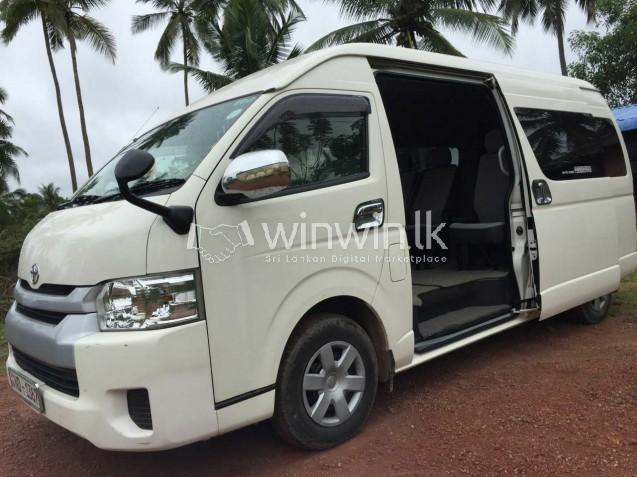van: (5, 41, 637, 452)
